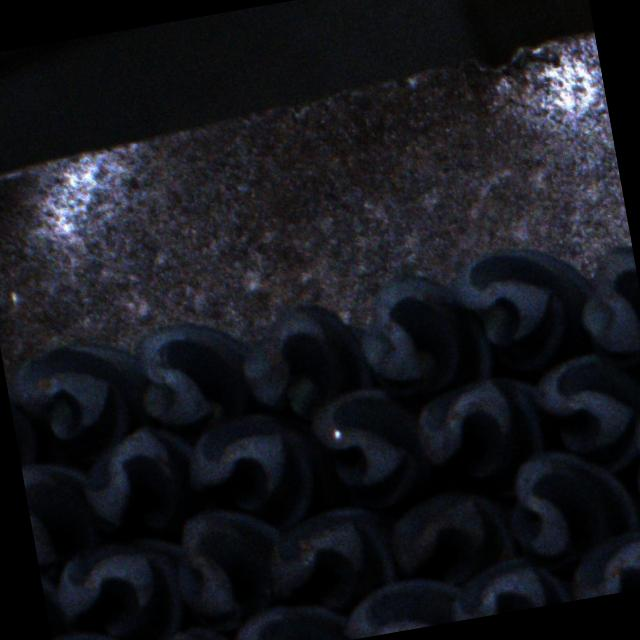tool_b: (446, 240, 602, 382), (180, 401, 340, 539), (4, 334, 158, 470), (346, 266, 496, 404), (498, 439, 640, 574), (302, 381, 436, 518), (235, 296, 378, 422), (169, 500, 299, 637), (260, 500, 406, 618), (75, 420, 213, 542), (410, 368, 550, 488), (127, 312, 260, 436), (524, 341, 640, 480), (50, 533, 197, 640), (382, 482, 518, 590), (20, 452, 104, 574), (444, 550, 575, 622), (336, 571, 467, 640), (572, 244, 640, 371), (558, 524, 640, 601), (228, 595, 355, 640), (36, 551, 76, 640), (623, 408, 640, 544), (125, 622, 244, 640), (51, 621, 153, 640)
